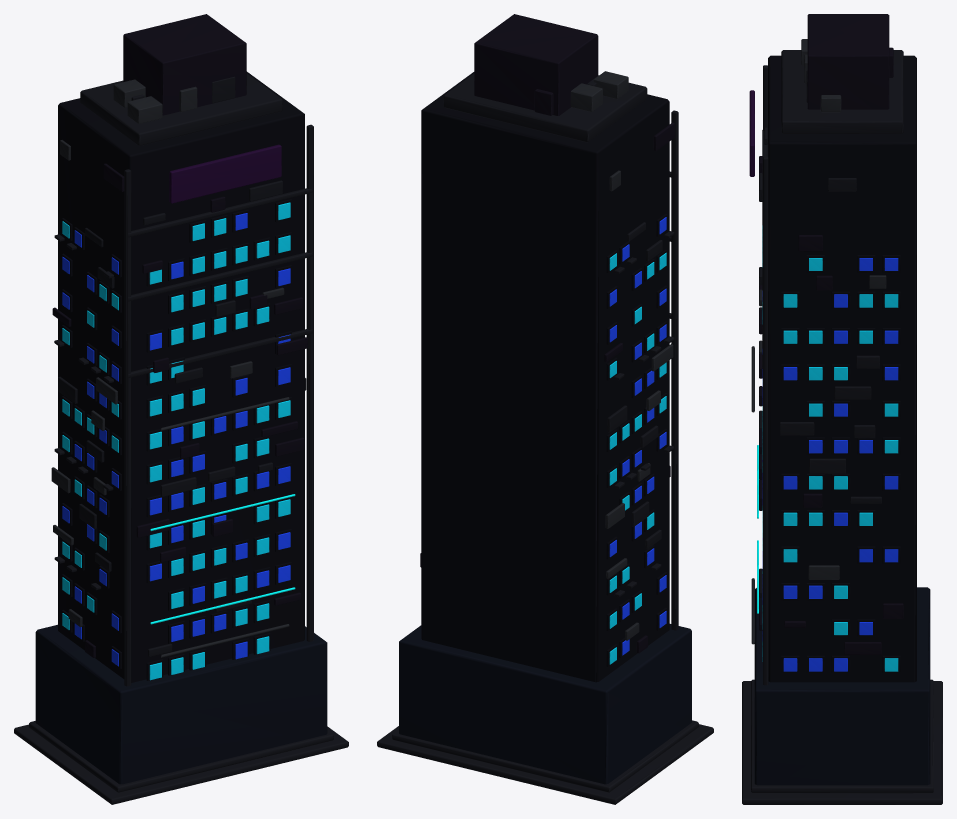
The model's file is cyberTower.obj.
3 views of the same model, side by side, from view 1: azimuth 30°, elevation 25°; view 2: azimuth 150°, elevation 25°; view 3: azimuth 270°, elevation 25° (orthographic). The views are drawn at different scales.
Visible parts, largest first — view 1: Core_Main_Tower, Core_Lower_Base, Core_Top_Small_Tower, Roof_Platform, Ground_Base_Layer_0, Front_Right_Heavy_Frame, Front_Left_Heavy_Frame, Big_Sign_Back, Ground_Base_Layer_1, Front_Heavy_Horizontal_Frame_6, Front_Heavy_Horizontal_Frame_7, Front_Heavy_Horizontal_Frame_5 (+2 smaller); view 2: Core_Main_Tower, Core_Lower_Base, Core_Top_Small_Tower, Roof_Platform, Ground_Base_Layer_0, Front_Right_Heavy_Frame, Ground_Base_Layer_1, Roof_Machine_1, Roof_Machine_7; view 3: Core_Main_Tower, Core_Lower_Base, Core_Top_Small_Tower, Roof_Platform, Ground_Base_Layer_0, Front_Left_Heavy_Frame, Ground_Base_Layer_1, Side_Random_Armor_Panel_-1_1, Side_Random_Armor_Panel_-1_14, Big_Sign_Back, Side_Random_Armor_Panel_-1_11, Side_Random_Armor_Panel_-1_9 (+4 smaller).
Part boxes in pixels (x1,y1,x2,y2): Core_Main_Tower: (58,71,304,682); Core_Lower_Base: (35,624,327,784); Core_Top_Small_Tower: (123,14,246,115); Roof_Platform: (80,73,282,145); Ground_Base_Layer_0: (14,724,348,804); Front_Right_Heavy_Frame: (124,169,131,686); Front_Left_Heavy_Frame: (306,124,313,641); Big_Sign_Back: (169,144,281,203); Ground_Base_Layer_1: (29,721,333,792); Front_Heavy_Horizontal_Frame_6: (128,252,312,301); Front_Heavy_Horizontal_Frame_7: (128,188,312,237); Front_Heavy_Horizontal_Frame_5: (128,329,312,377); Core_Main_Tower: (421,72,669,682); Core_Lower_Base: (399,624,691,784); Core_Top_Small_Tower: (474,14,598,115); Roof_Platform: (443,73,647,142); Ground_Base_Layer_0: (377,724,713,804); Front_Right_Heavy_Frame: (671,110,678,630); Ground_Base_Layer_1: (392,720,698,792); Roof_Machine_1: (570,83,602,111); Roof_Machine_7: (593,71,628,98); Core_Main_Tower: (768,55,916,682); Core_Lower_Base: (754,587,930,785); Core_Top_Small_Tower: (807,14,889,109); Roof_Platform: (781,50,903,133); Ground_Base_Layer_0: (742,681,942,804); Front_Left_Heavy_Frame: (763,156,768,685); Ground_Base_Layer_1: (751,679,933,793); Side_Random_Armor_Panel_-1_1: (809,458,845,473); Side_Random_Armor_Panel_-1_14: (834,386,871,399); Big_Sign_Back: (749,90,754,176); Side_Random_Armor_Panel_-1_11: (844,642,881,654); Side_Random_Armor_Panel_-1_9: (780,422,814,435).
Size of the model in its own units: 9.45 by 26.5 by 6.75.
